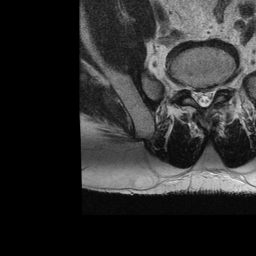CCS_normal: (199, 81, 207, 114)
LFS_stenosis: (215, 75, 223, 99)
LLS_normal: (207, 81, 216, 108)
RFS_stenosis: (184, 75, 192, 99)
RLS_normal: (191, 81, 199, 111)
